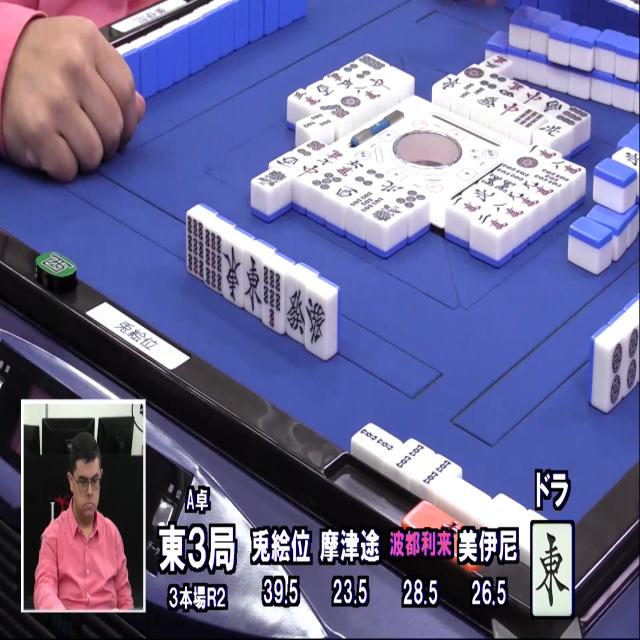2B: (357, 423, 394, 456), (418, 455, 452, 489), (394, 434, 426, 469)
2D: (606, 339, 628, 412), (622, 321, 640, 391)
7B: (262, 264, 284, 332)
9B: (185, 214, 204, 280), (204, 230, 223, 294)
EW: (532, 522, 575, 614), (222, 243, 242, 308), (243, 252, 262, 317)
GD: (305, 293, 331, 356), (284, 278, 306, 341)
